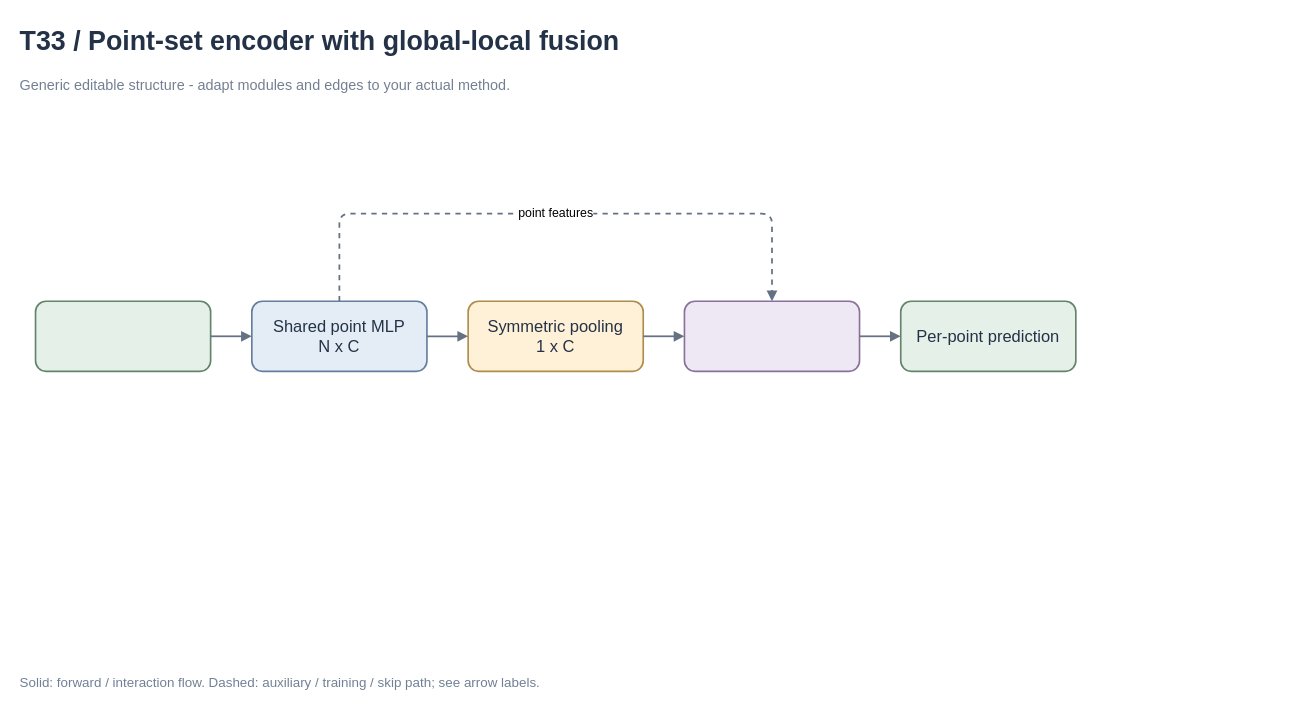
This 1302x716 diagram has some shape labels left out. The centre of each missing label's shape, as x and y in pixels:
Global + local fuse N x 2C: the point at 771,336
Point cloud N x 3: the point at 122,336
